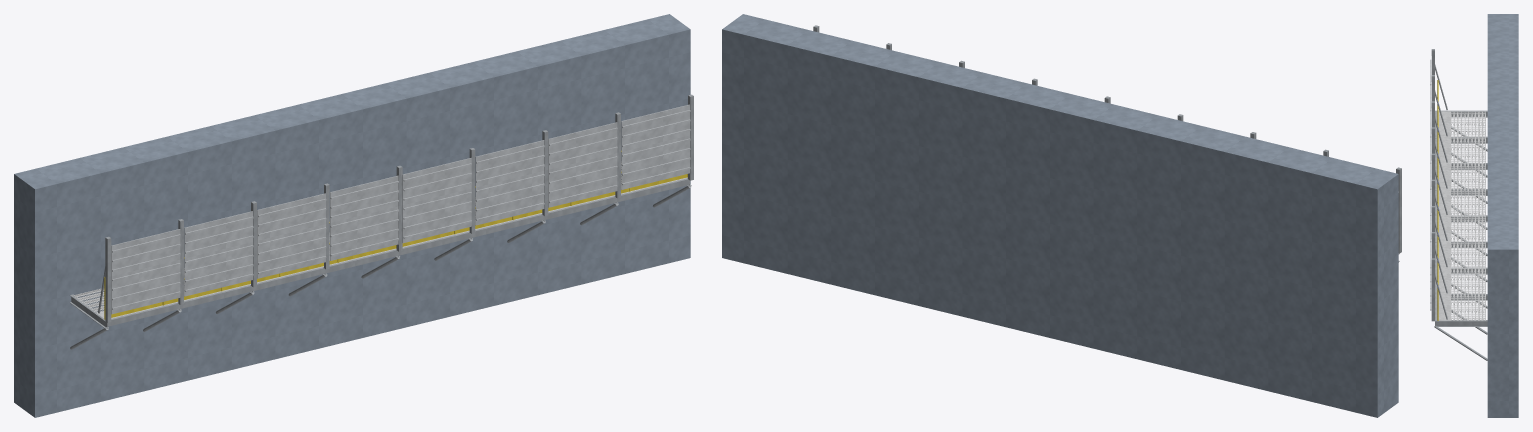
The model's file is wind-shields-for-walkways.glb.
3 renders of one model, left to right at view 1: azimuth 30°, elevation 25°; view 2: azimuth 150°, elevation 25°; view 3: azimuth 270°, elevation 25°, orthographic. The views are drawn at different scales.
Visible parts, largest first — view 1: Structure(context), ScreenPanels, SupportBrackets, ScreenPosts, Handrails, WalkwayDeck; view 2: Structure(context), ScreenPosts; view 3: Structure(context), WalkwayDeck, SupportBrackets, ScreenPosts, ScreenPanels, Handrails.
Part boxes in pixels (x1=…): Structure(context): x1=14, y1=14, x2=690, y2=417; ScreenPanels: x1=111, y1=104, x2=690, y2=314; SupportBrackets: x1=69, y1=178, x2=691, y2=349; ScreenPosts: x1=98, y1=94, x2=693, y2=322; Handrails: x1=104, y1=151, x2=687, y2=319; WalkwayDeck: x1=73, y1=162, x2=687, y2=318; Structure(context): x1=722, y1=14, x2=1398, y2=417; ScreenPosts: x1=813, y1=25, x2=1401, y2=253; Structure(context): x1=1487, y1=14, x2=1518, y2=417; WalkwayDeck: x1=1436, y1=111, x2=1485, y2=320; SupportBrackets: x1=1434, y1=110, x2=1487, y2=360; ScreenPosts: x1=1431, y1=49, x2=1447, y2=321; ScreenPanels: x1=1430, y1=56, x2=1431, y2=310; Handrails: x1=1437, y1=80, x2=1438, y2=320.
Bounding box in the file's own units: 18 × 6 × 2.84.
5 materials, 5 textured.
